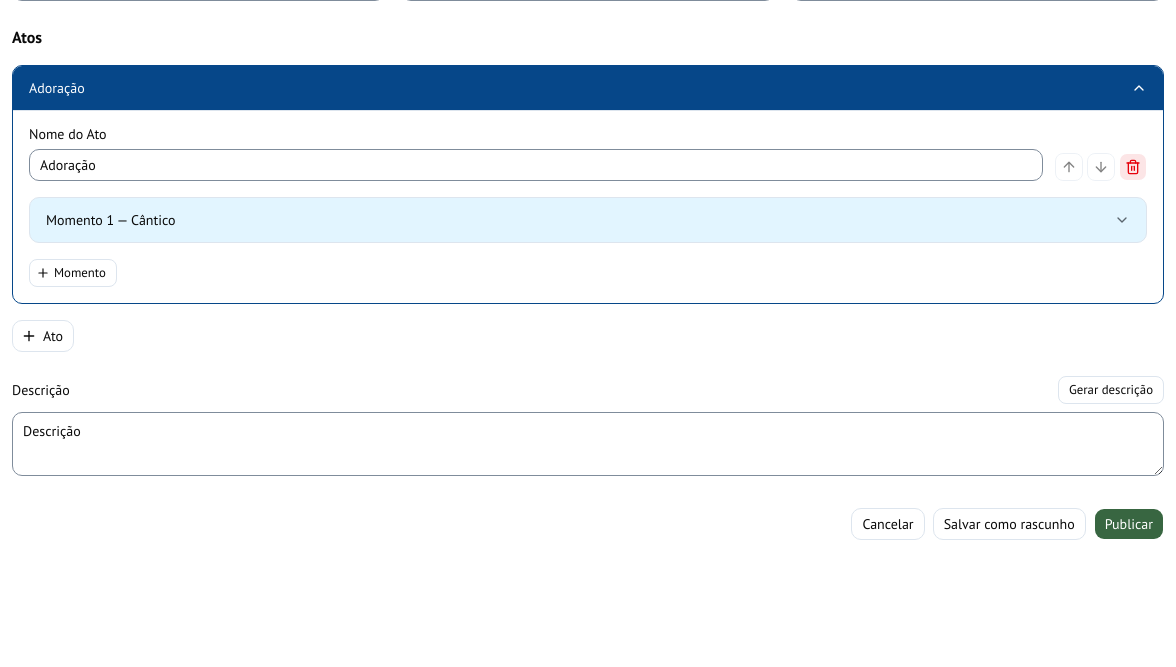
LiturgyForm Cântico › opens an edited Liturgia with the card of the saved Cântico
The width and height of the screenshot is (1176, 667).
Click the button "Momento 1 — Cântico".
click(76, 220)  # box [30,198,1146,242]
(page scrolled)
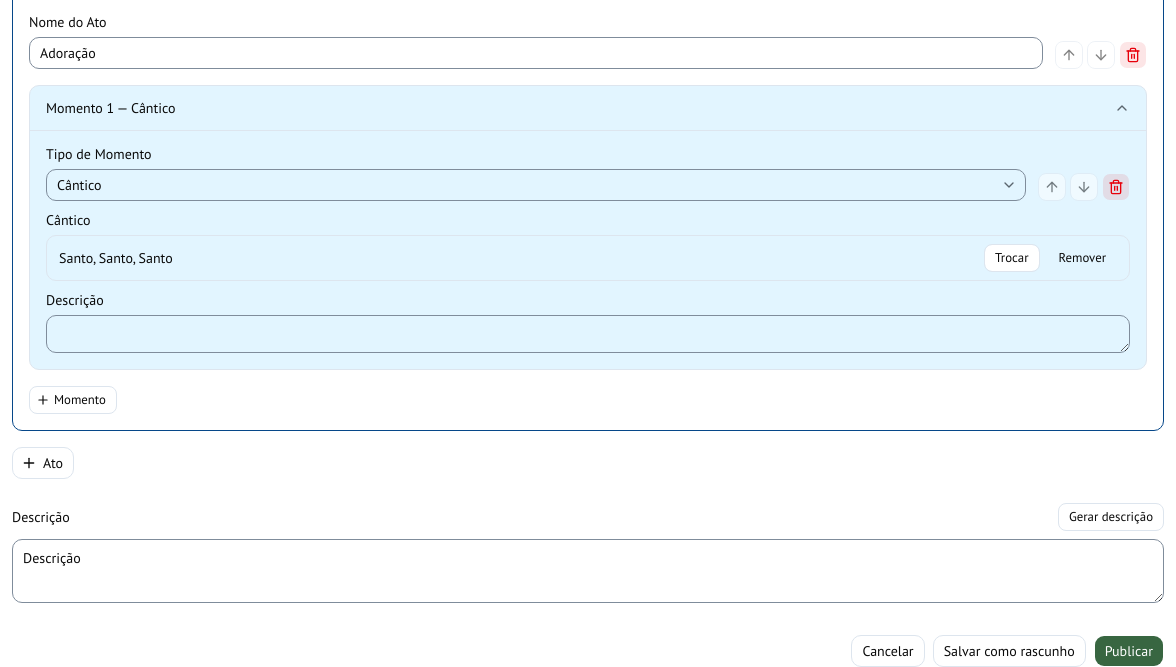
Expected: the element named "Cântico selecionado" shows "Santo, Santo, Santo", [59,249,173,267]
